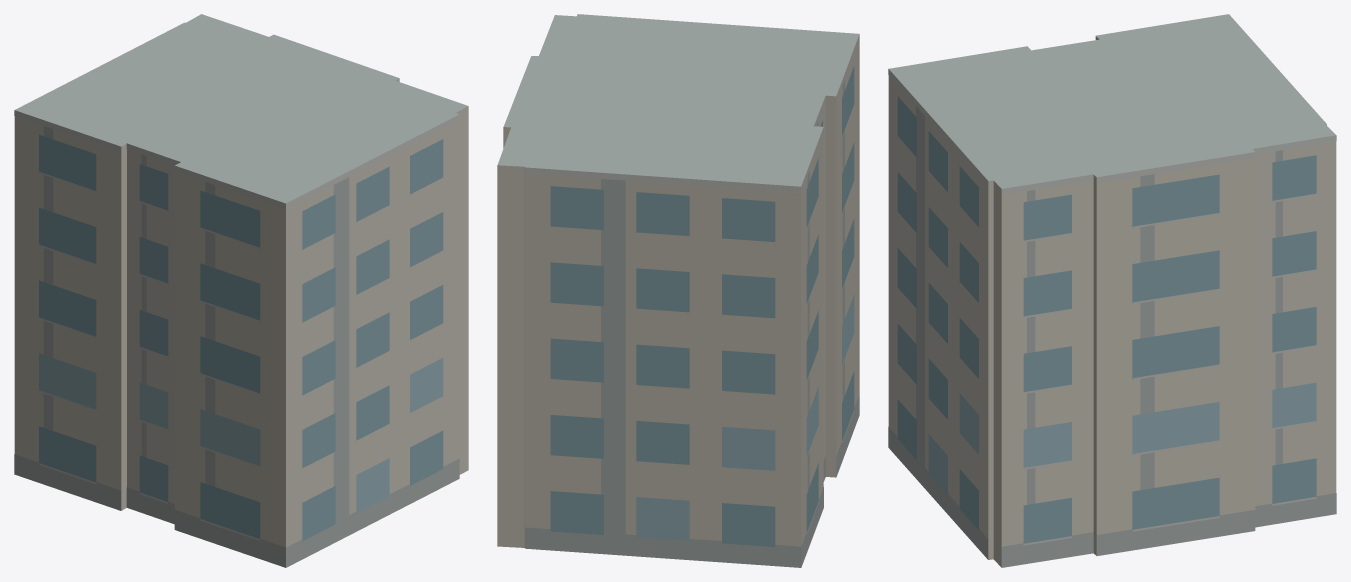
File: survey-upis-32942338.glb
3 views of the same model, side by side, from view 1: azimuth 30°, elevation 25°; view 2: azimuth 150°, elevation 25°; view 3: azimuth 270°, elevation 25° (orthographic). The views are drawn at different scales.
Visible parts, largest first — view 1: survey-upis-32942338.tmp; view 2: survey-upis-32942338.tmp; view 3: survey-upis-32942338.tmp.
Boxes of the visible parts, left/top/right/bottom form: survey-upis-32942338.tmp: left=14, top=14, right=468, bottom=567; survey-upis-32942338.tmp: left=497, top=14, right=859, bottom=567; survey-upis-32942338.tmp: left=888, top=14, right=1336, bottom=567.
Bounding box in the file's own units: 14.96 × 15.1 × 16.18.
